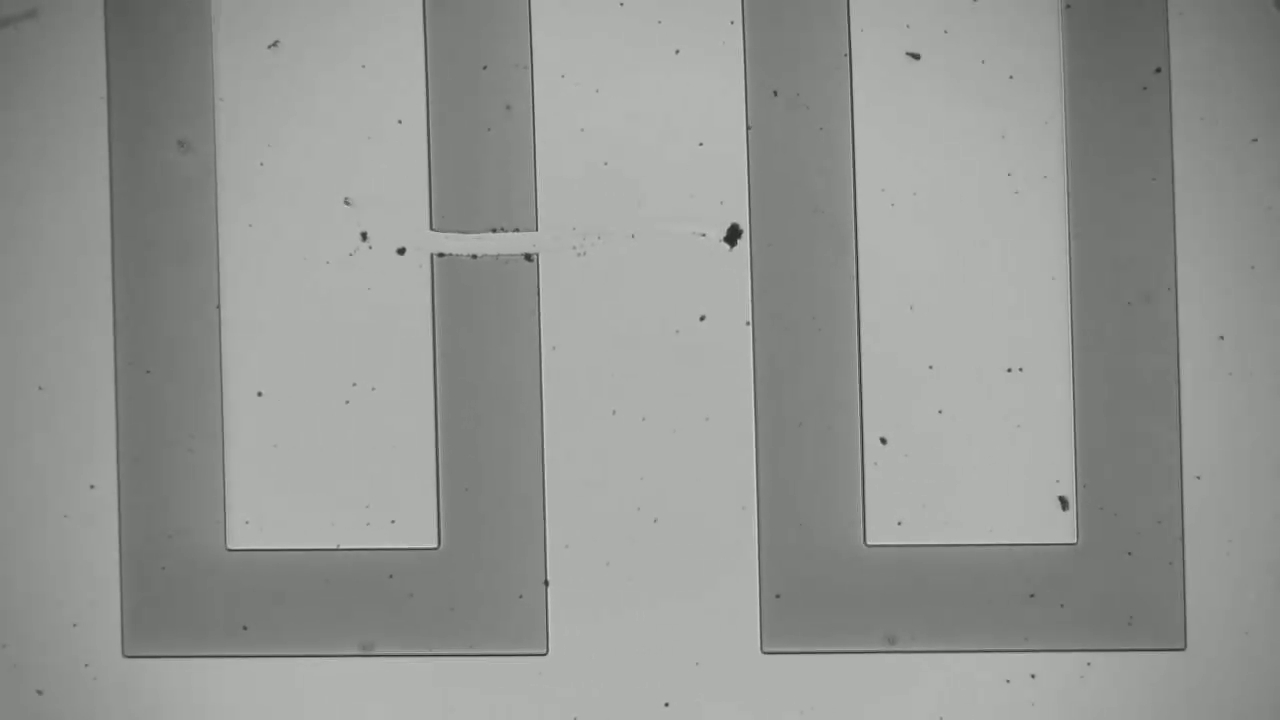Short_circuit: (396, 209, 561, 283)
